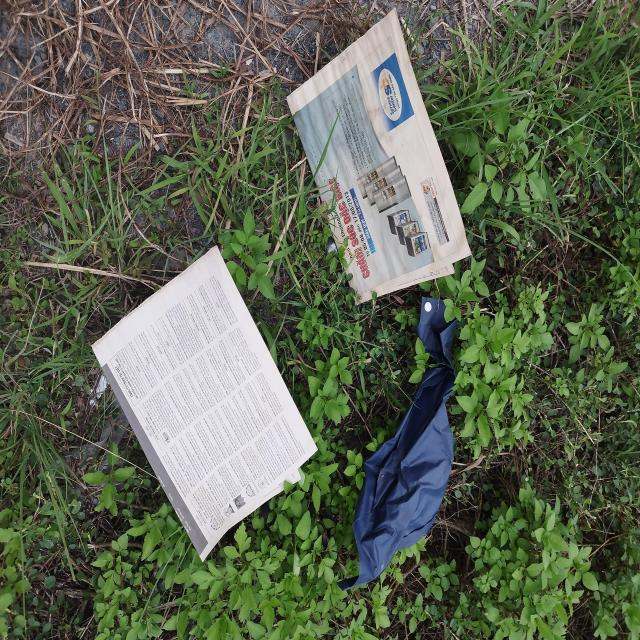clothes: (338, 295, 460, 589)
paper: (92, 245, 318, 562), (286, 8, 472, 307)
